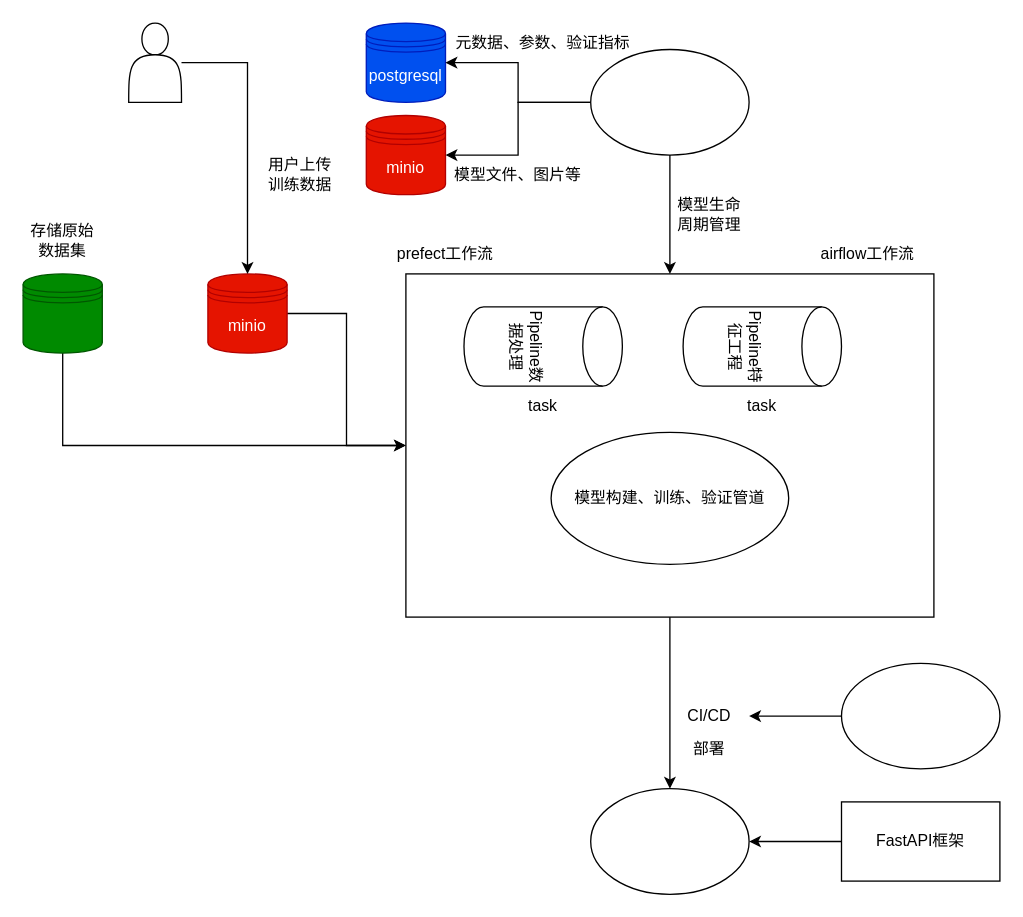
Image size: 1023x917. Some labels were removed from this diagram. The centre of each missing label's shape, as x and y in pixels:
"docker模型服务" goes at point (669, 840).
"Jenkins/gitlab" goes at point (920, 715).
"MLFlow" goes at point (669, 101).
"Mysql" goes at point (62, 313).
